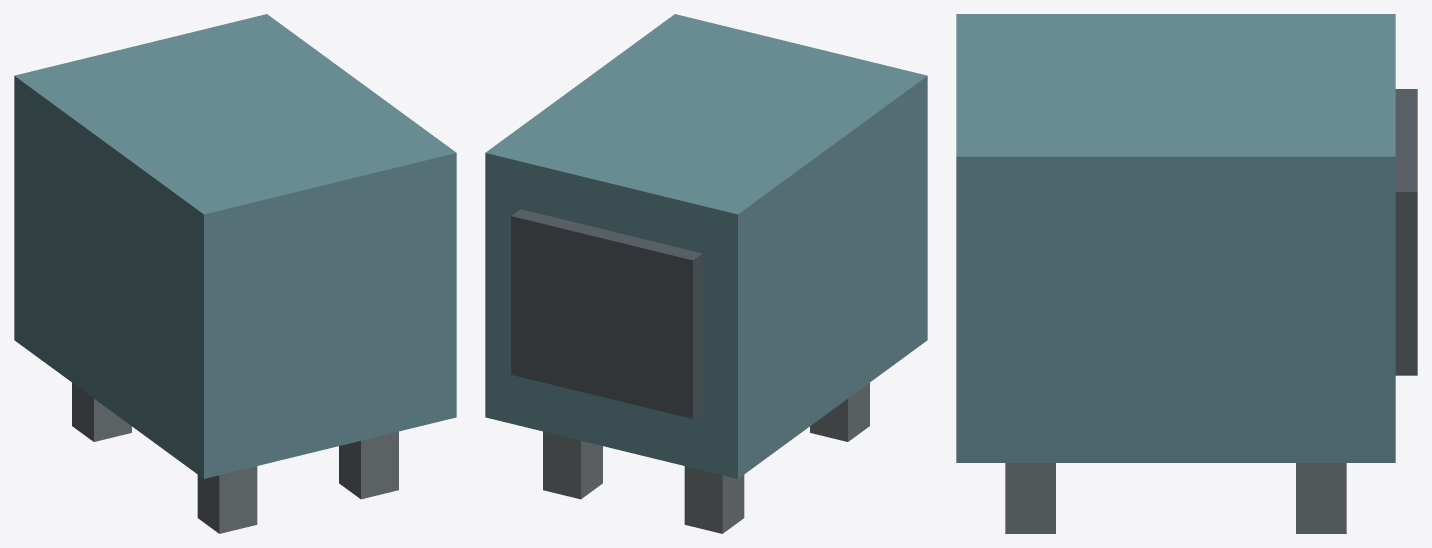
Rendered from welder_cart.glb.
The picture shows the model from 3 angles, left to right: view 1: azimuth 30°, elevation 25°; view 2: azimuth 150°, elevation 25°; view 3: azimuth 270°, elevation 25°; orthographic projection. The views are drawn at different scales.
Parts seen in each view (by area): view 1: body; view 2: body; view 3: body.
Part boxes in pixels (bbox=[...]): body: bbox=[14, 14, 456, 533]; body: bbox=[485, 14, 927, 533]; body: bbox=[956, 14, 1417, 533].
Bounding box in the file's own units: 0.5 × 0.65 × 0.6825.
